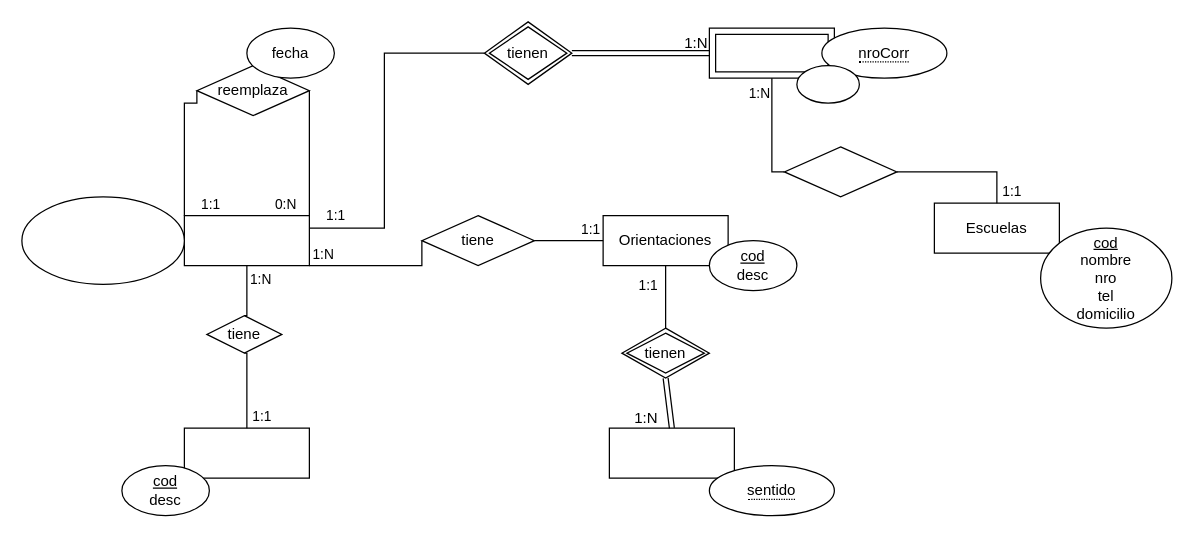
Some shapes in this 1194 by 538 pixel diagram are drawn without their labels. The shapes that lost their labels are listed below. From the top down, each one's centre as x and y in pixels, then its label:
the point at 771,52: Historias
the point at 827,83: desc
the point at 840,171: escribe
the point at 102,240: cod nombre observacion fechaBaja (NULL)
the point at 246,240: Calles
the point at 246,452: Legalidades
the point at 671,452: Sentidos
